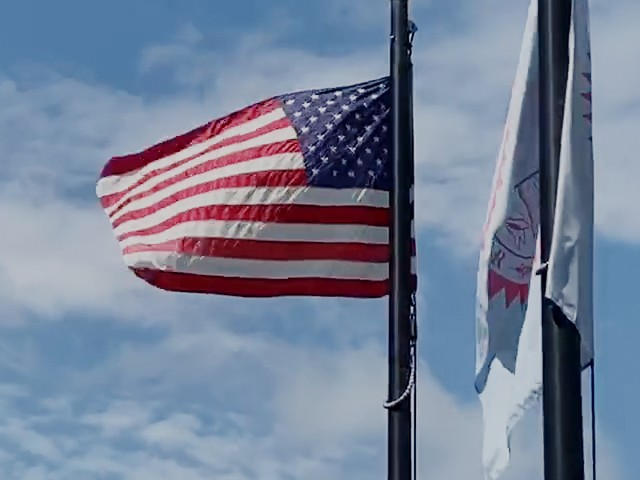America flag: (95, 72, 393, 299)
